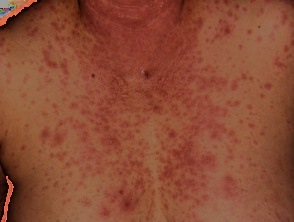SJS-TEN: (32, 0, 271, 222)
